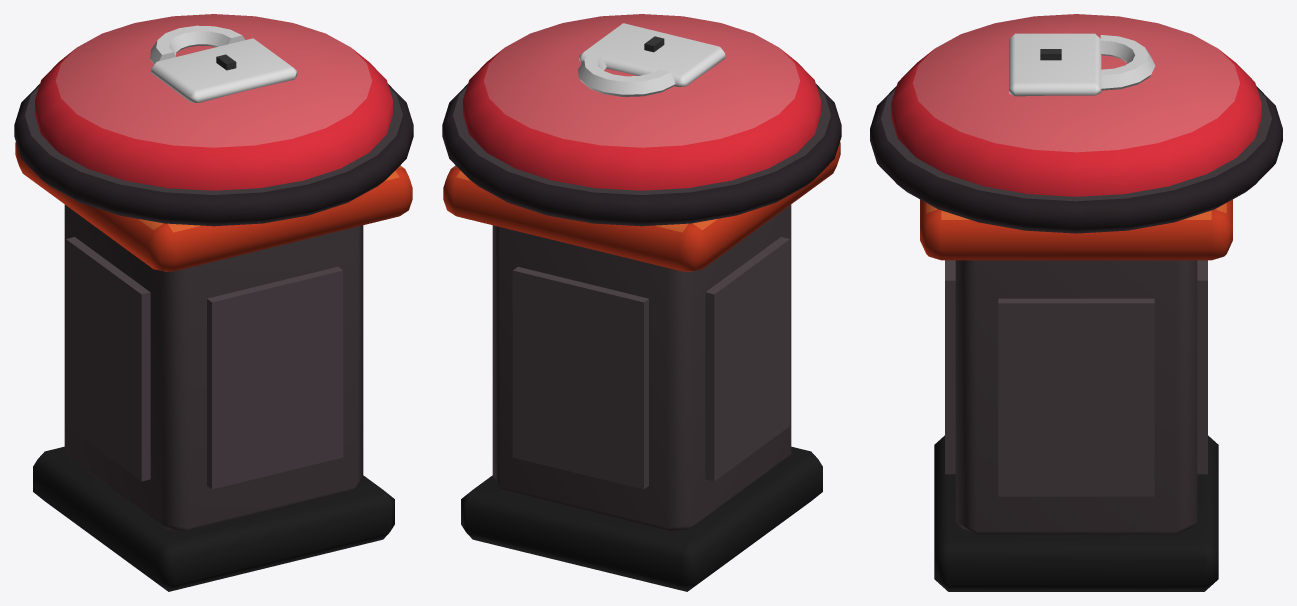
Rendered from candy-lockbtn.glb.
The picture shows the model from 3 angles, left to right: view 1: azimuth 30°, elevation 25°; view 2: azimuth 150°, elevation 25°; view 3: azimuth 270°, elevation 25°; orthographic projection. The views are drawn at different scales.
Visible parts, largest first — view 1: candy-lockbtn; view 2: candy-lockbtn; view 3: candy-lockbtn.
Boxes of the visible parts, bbox=[...] form: candy-lockbtn: bbox=[14, 14, 413, 591]; candy-lockbtn: bbox=[442, 14, 841, 591]; candy-lockbtn: bbox=[870, 14, 1282, 591].
Size of the model in its own units: 0.58 by 0.754 by 0.58.
